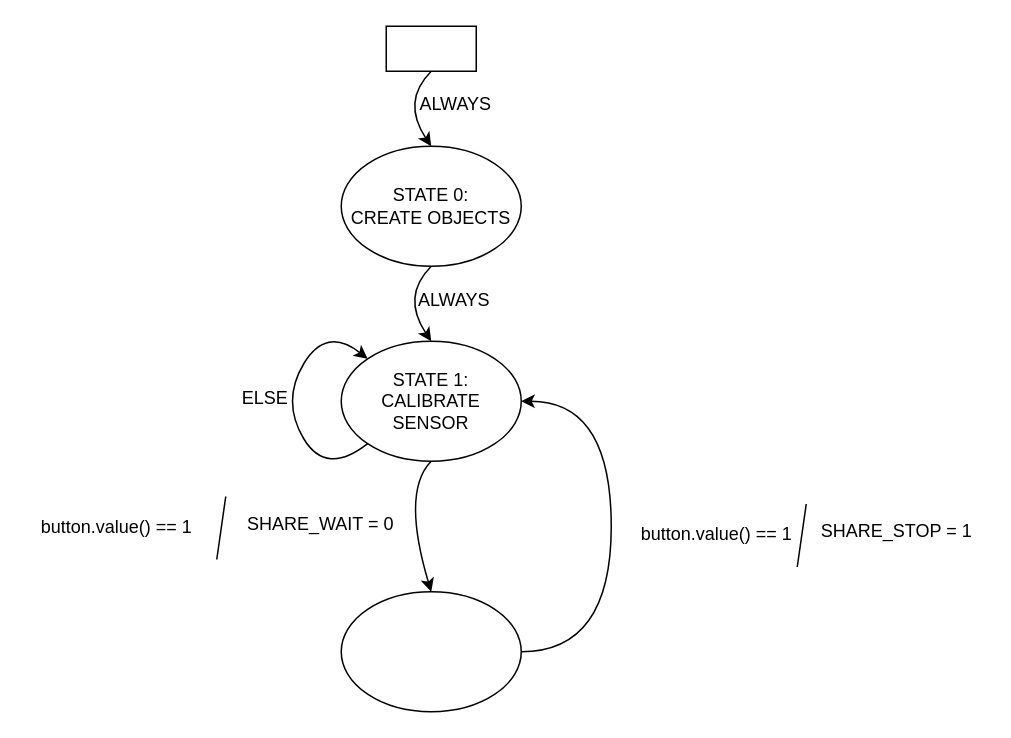
This 1011x738 diagram has some shape labels left out. The shapes that lost their labels are listed below. From the top down, each one's box as (x1, y1, x2, y2) in pixels, then its label:
(385, 25, 476, 71): START
(340, 590, 521, 712): STATE 2: FOLLOW LINE
